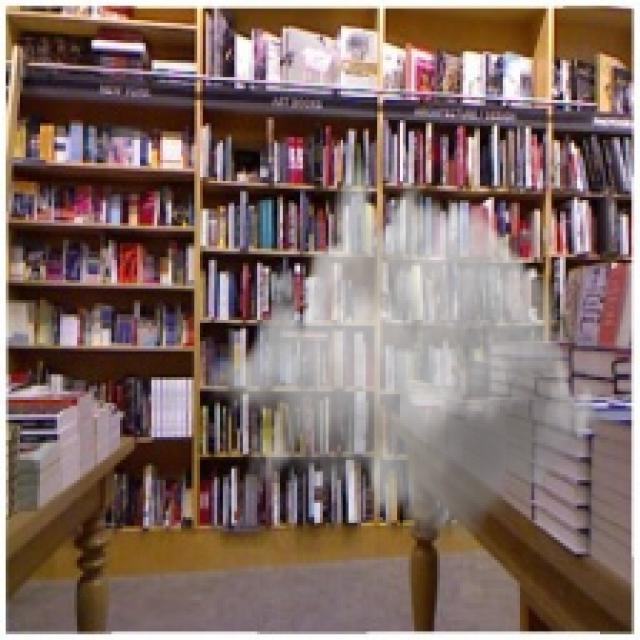smoke: (206, 154, 600, 560)
